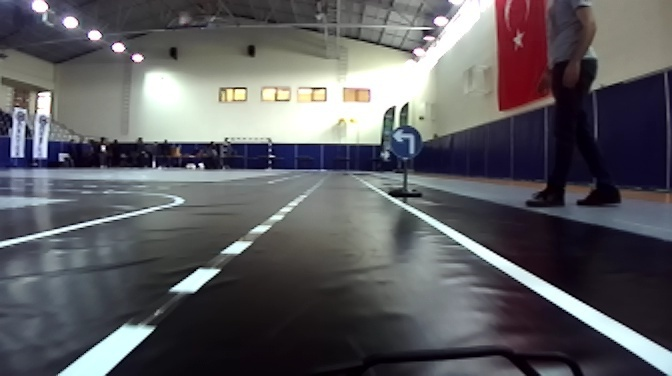sola_donus: (390, 129, 421, 156)
